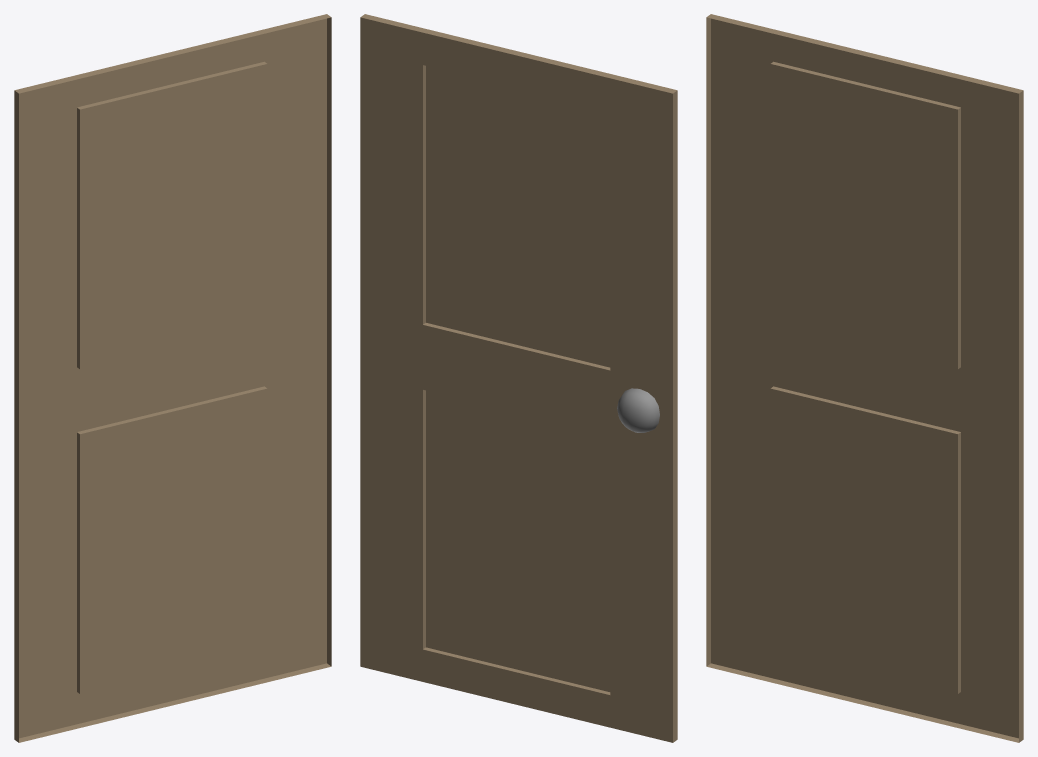
Rendered from DoorLocked.fbx.
3 views of the same model, side by side, from view 1: azimuth 30°, elevation 25°; view 2: azimuth 150°, elevation 25°; view 3: azimuth 330°, elevation 25° (orthographic).
Visible parts, largest first — view 1: DoorGeo; view 2: DoorGeo, DoorHandle; view 3: DoorGeo.
Boxes of the visible parts, x1,y1,x2,y2 form: DoorGeo: (14, 14, 331, 742); DoorGeo: (360, 14, 677, 742); DoorHandle: (617, 388, 659, 432); DoorGeo: (706, 14, 1023, 742).
Size of the model in its own units: 120 by 239 by 9.51.
